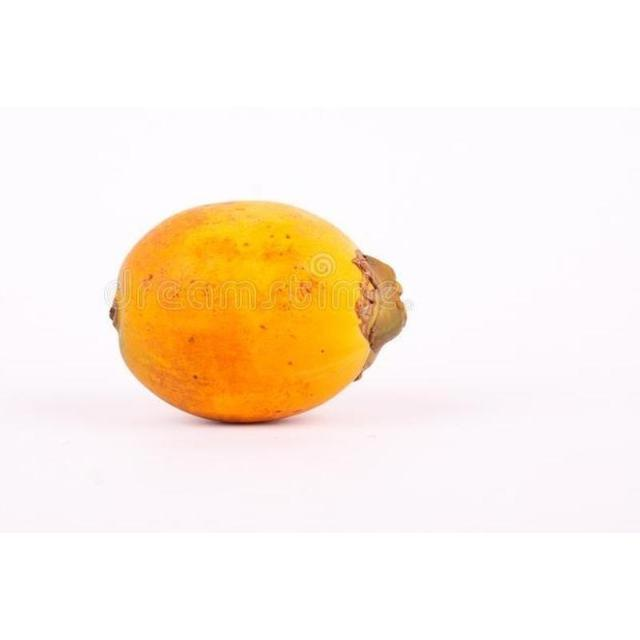good: (109, 201, 408, 426)
